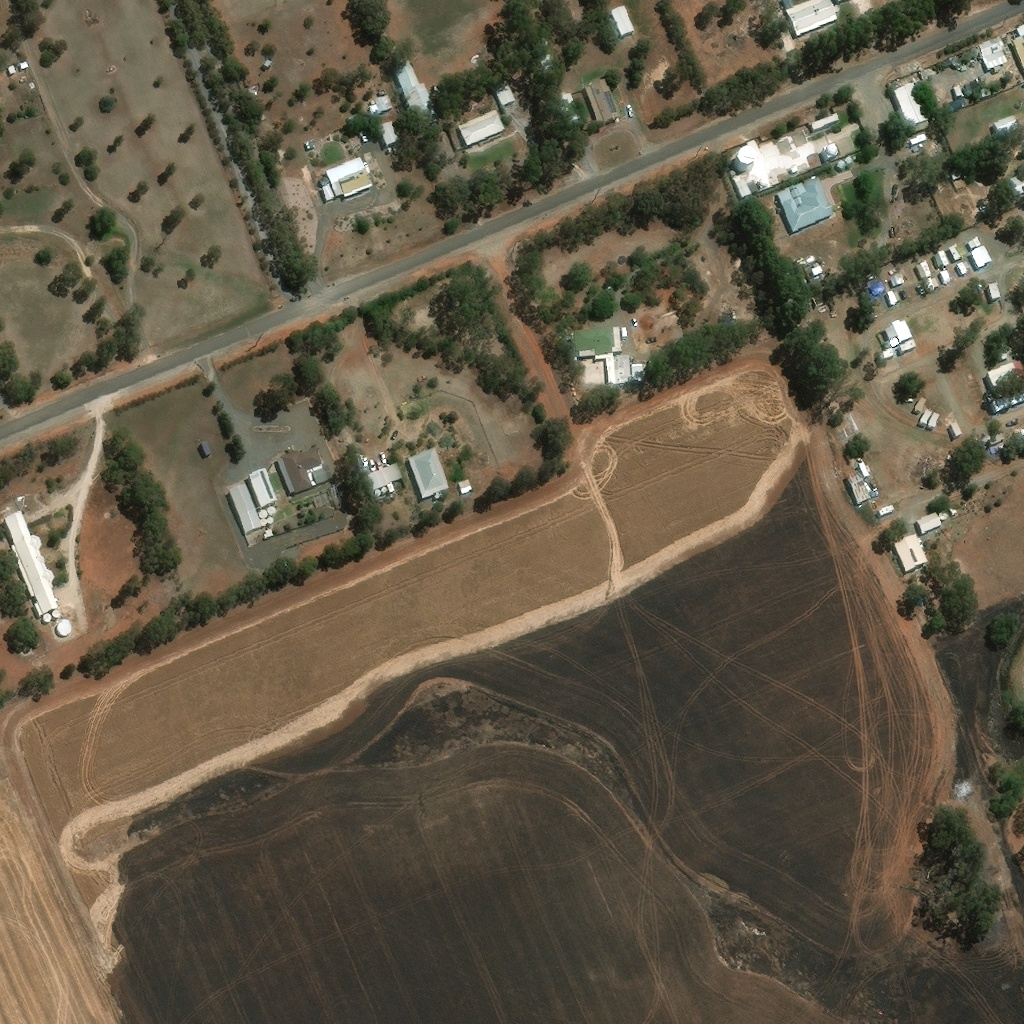0 no-damage: (4, 511, 58, 613), (571, 324, 633, 386), (392, 58, 441, 129), (777, 175, 835, 230), (230, 465, 278, 530), (277, 443, 324, 493), (325, 155, 373, 197), (409, 446, 449, 495), (585, 77, 623, 123), (458, 109, 504, 145), (893, 82, 929, 126), (893, 534, 927, 572), (977, 34, 1008, 69), (368, 460, 404, 488), (845, 468, 870, 504), (987, 362, 1019, 390), (610, 3, 635, 35), (556, 91, 581, 123), (999, 171, 1023, 200), (379, 118, 403, 144), (368, 92, 396, 113), (1009, 24, 1023, 65), (494, 81, 516, 106), (916, 512, 941, 534), (993, 114, 1019, 135), (891, 317, 913, 341), (970, 243, 991, 267), (312, 485, 336, 505), (810, 113, 839, 129), (734, 175, 751, 197), (754, 167, 773, 186), (821, 143, 839, 161), (902, 337, 918, 355), (736, 152, 753, 168), (321, 182, 334, 201), (58, 615, 73, 631), (354, 448, 367, 466), (459, 476, 474, 491), (198, 437, 212, 453), (915, 335, 930, 349), (282, 552, 296, 566), (967, 235, 981, 248), (812, 261, 825, 274), (914, 319, 925, 333), (1014, 360, 1023, 377), (264, 527, 274, 537), (53, 605, 63, 614), (263, 59, 272, 69), (18, 62, 27, 71), (6, 67, 15, 76), (43, 610, 53, 618), (938, 513, 947, 521), (259, 506, 267, 515), (267, 504, 276, 512), (948, 506, 956, 514), (381, 484, 389, 491), (833, 3, 840, 10), (260, 516, 267, 523), (267, 513, 274, 520), (790, 165, 797, 172), (914, 587, 921, 594), (744, 195, 751, 201), (375, 487, 381, 492)
